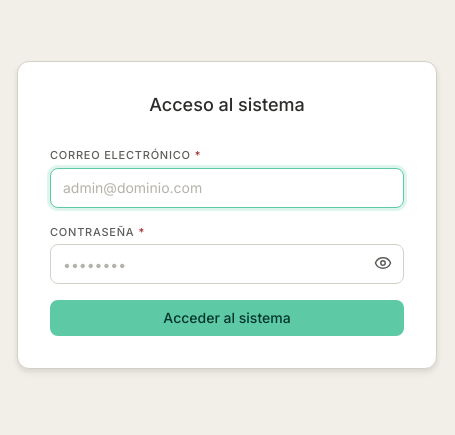
it: SystemLoginPage — flujo de autenticación › muestra error cuando el role no es superadmin
The image size is (455, 435).
Type "inv@test.com" into the field labelled "Correo electrónico*" at (227, 188), box x1=50 y1=168 x2=404 y2=208
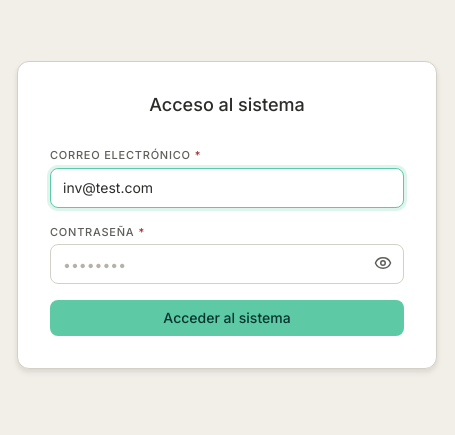
Type "clave" into the password field labelled "Contraseña*" at (227, 264), box x1=50 y1=244 x2=404 y2=284
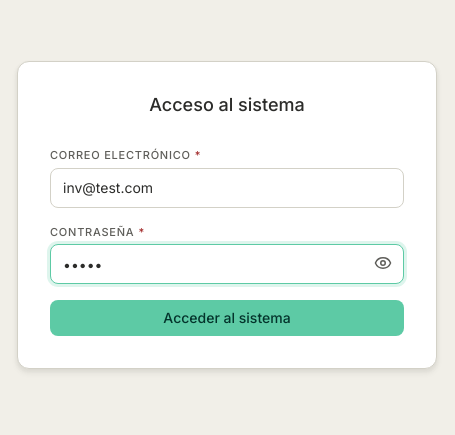
Click the button "Acceder al sistema" at (227, 318), box x1=50 y1=300 x2=404 y2=336
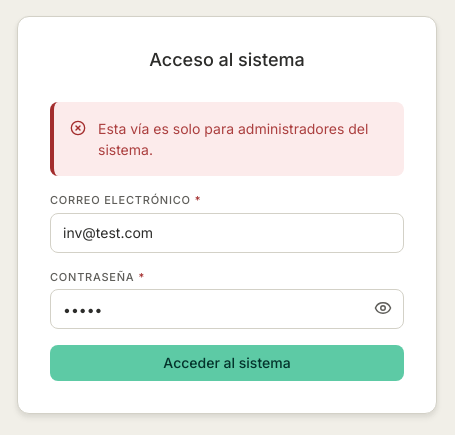
Expected: the text "Esta vía es solo para administradores del sistema." is shown, x1=98 y1=118 x2=388 y2=160
